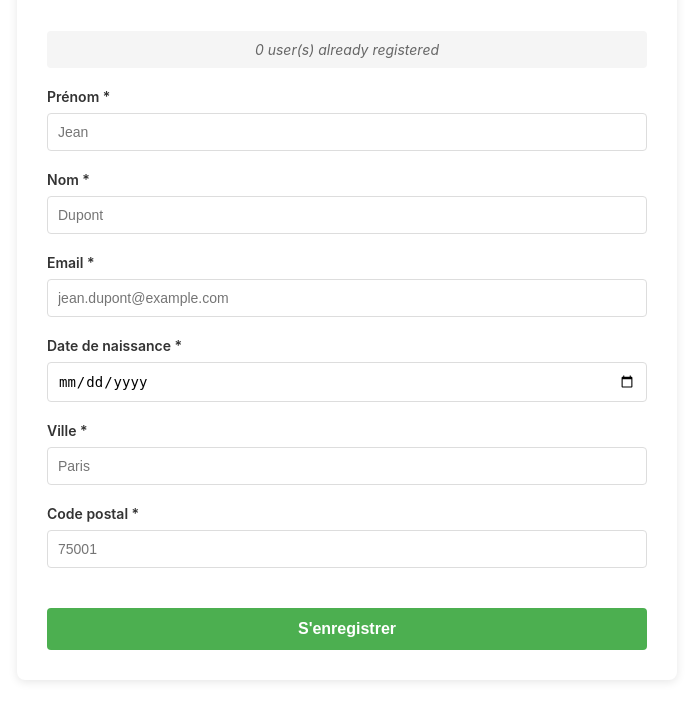
Test: RegisterForm Integration Tests › should show validation errors when submitting empty form
(page scrolled)
Click the button "S'enregistrer" at (347,629), box [47,608,647,650]
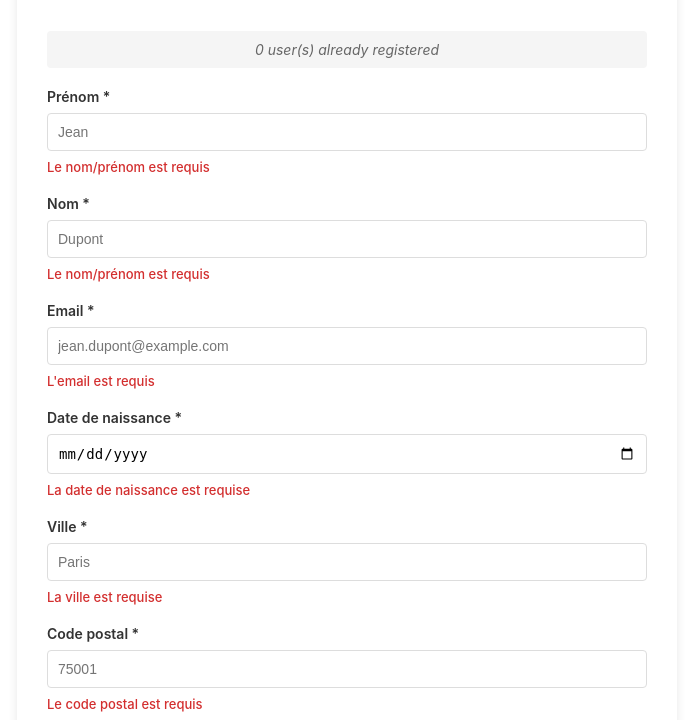
Now the text with test id "error-firstName" is shown, box [47,159,210,175]
Now the text with test id "error-lastName" is shown, box [47,266,210,282]
Now the text "L'email est requis" is shown, box [47,373,155,389]
